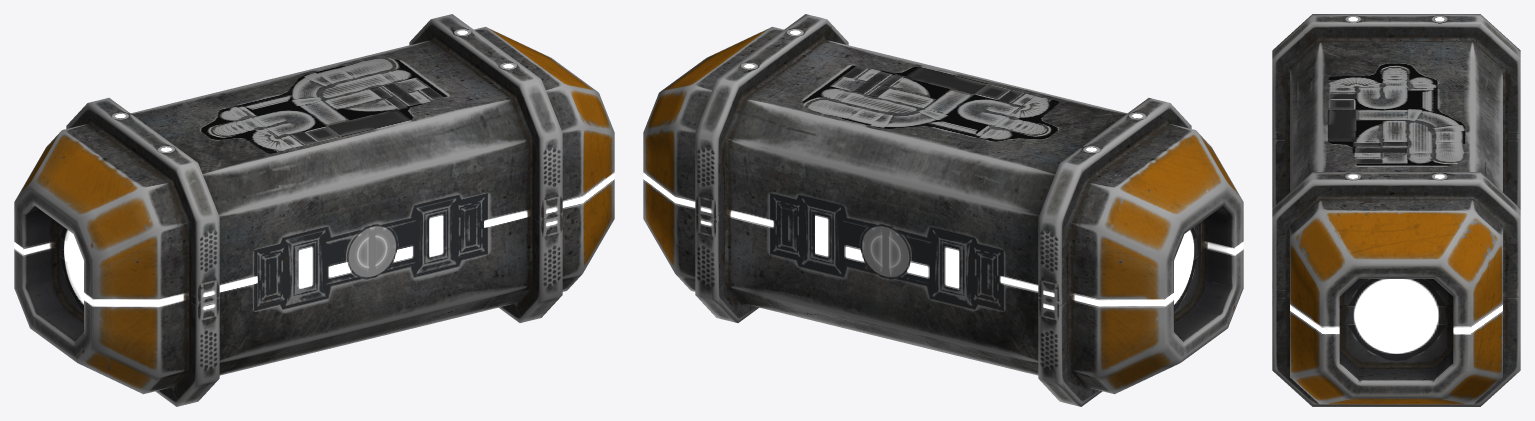
Rendered from crate.glb.
The picture shows the model from 3 angles, left to right: view 1: azimuth 30°, elevation 25°; view 2: azimuth 150°, elevation 25°; view 3: azimuth 270°, elevation 25°; orthographic projection. The views are drawn at different scales.
Visible parts, largest first — view 1: Sci_Fi_Crate_LP2; view 2: Sci_Fi_Crate_LP2; view 3: Sci_Fi_Crate_LP2.
Boxes of the visible parts, bbox=[...] form: Sci_Fi_Crate_LP2: bbox=[14, 14, 614, 406]; Sci_Fi_Crate_LP2: bbox=[643, 14, 1243, 406]; Sci_Fi_Crate_LP2: bbox=[1272, 14, 1520, 406].
Bounding box in the file's own units: 320 × 140 × 140.
1 material, 1 textured.
